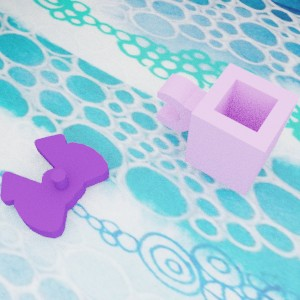lego: (156, 62, 300, 195), (0, 133, 109, 238)
